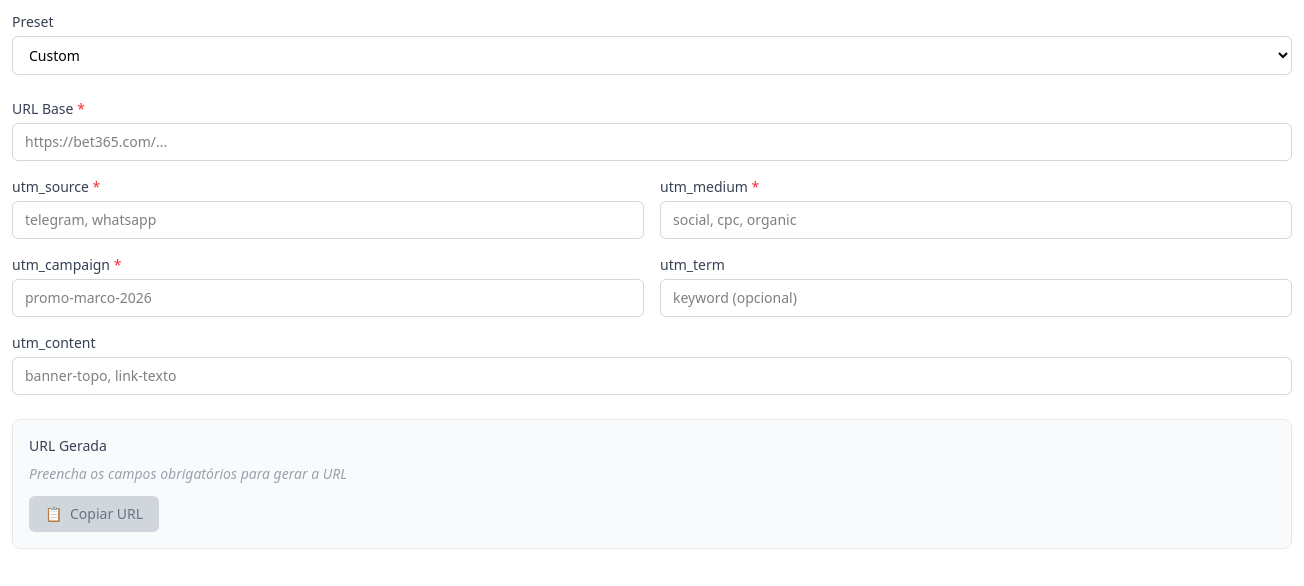
it: UtmBuilder › shows validation error for invalid URL
Type "not-a-url" into the field with placeholder "https://bet365.com/...".
click(652, 142); type("not-a-url")  # box [12,123,1292,161]
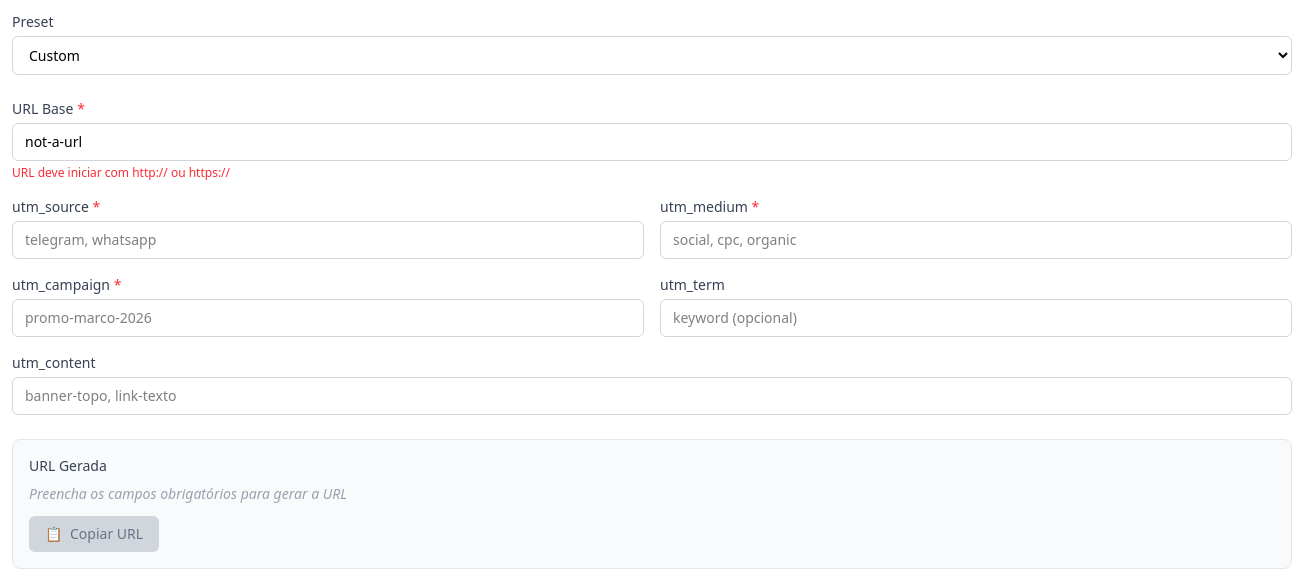
Expected: the text "URL deve iniciar com http:// ou https://" is shown, [12,164,230,181]
